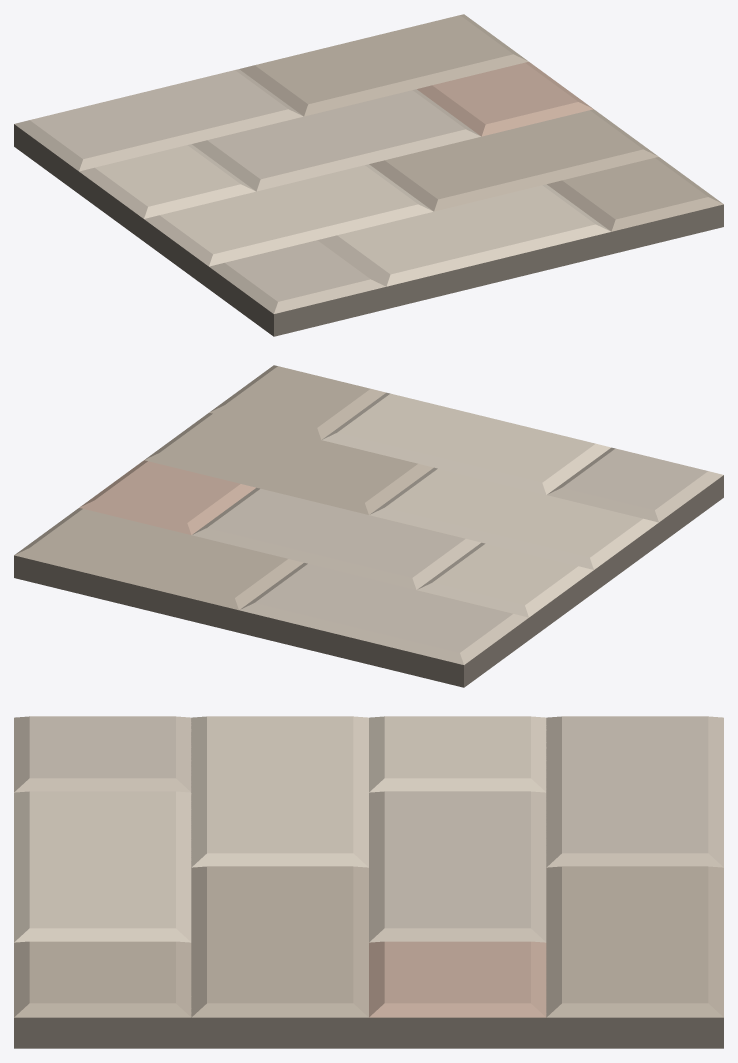
File: boden_pflaster_a.glb
The picture shows the model from 3 angles, top to bottom: view 1: azimuth 30°, elevation 25°; view 2: azimuth 150°, elevation 25°; view 3: azimuth 270°, elevation 25°; orthographic projection. The views are drawn at different scales.
Parts seen in each view (by area): view 1: boden_pflaster_a; view 2: boden_pflaster_a; view 3: boden_pflaster_a.
Boxes of the visible parts, <box> form: boden_pflaster_a: <box>14,14,723,336</box>; boden_pflaster_a: <box>14,365,723,687</box>; boden_pflaster_a: <box>14,716,723,1048</box>.
Size of the model in its own units: 1 by 0.06 by 1.
